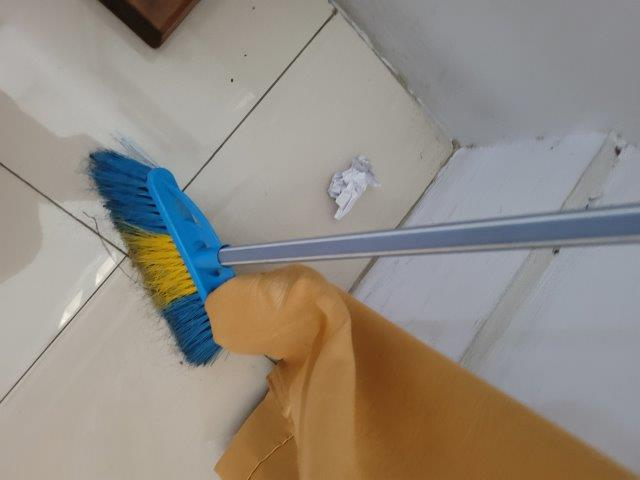kertas: (314, 153, 382, 218)
